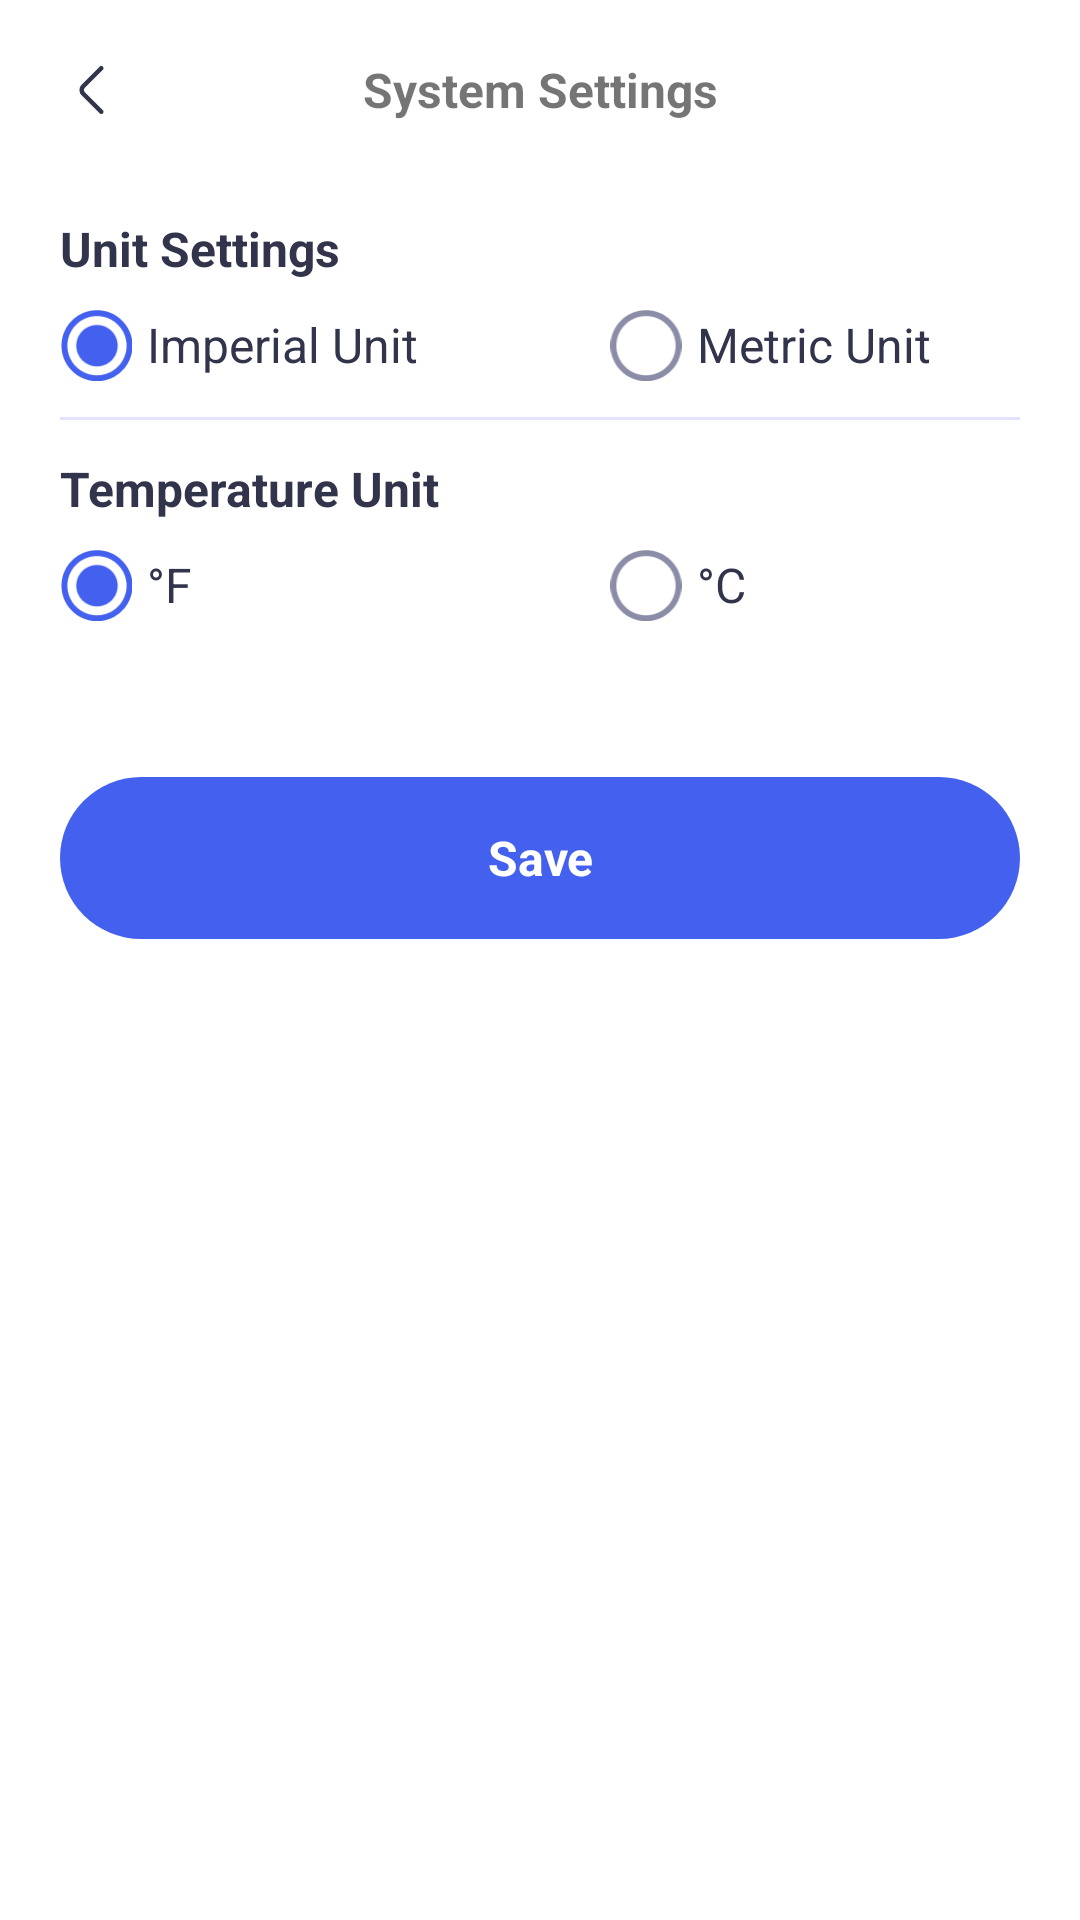

Icons on this 1080 x 1920 Android screen, each with its box as (x1, y1, x2, y2):
navigation back: (79, 66, 104, 114)
simple check: (61, 310, 132, 381), (61, 550, 132, 621)
simple uncheck: (610, 310, 682, 381), (610, 550, 682, 621)
